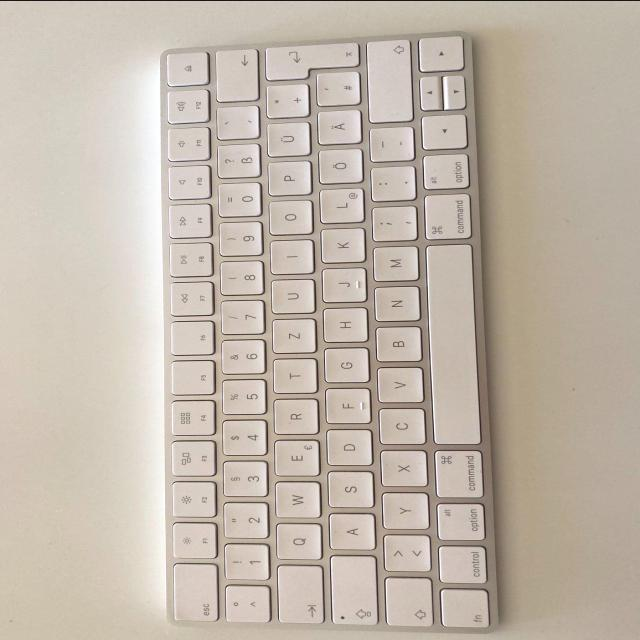0: (215, 182, 261, 218)
1: (222, 543, 269, 582)
2: (221, 502, 268, 540)
3: (220, 460, 267, 498)
4: (219, 419, 265, 456)
5: (219, 378, 266, 416)
6: (219, 339, 265, 377)
7: (218, 300, 264, 336)
8: (217, 260, 263, 297)
9: (216, 221, 262, 257)
a: (326, 513, 376, 551)
accent: (214, 105, 258, 141)
ae: (315, 109, 361, 145)
alt-left: (434, 502, 486, 542)
altgr-right: (419, 153, 469, 191)
b: (373, 326, 420, 364)
c: (376, 407, 426, 446)
caret: (222, 585, 269, 624)
comma: (369, 205, 416, 243)
d: (324, 428, 372, 468)
del: (212, 49, 258, 103)
e: (271, 439, 319, 477)
enter: (260, 43, 358, 82)
f: (322, 387, 370, 425)
g: (322, 347, 369, 385)
h: (320, 307, 367, 345)
hash: (314, 71, 360, 107)
i: (267, 240, 313, 276)
j: (319, 268, 366, 304)
k: (318, 228, 365, 265)
keyboard: (155, 30, 505, 634)
l: (316, 187, 364, 225)
less: (381, 534, 429, 573)
m: (370, 245, 418, 283)
minus: (367, 127, 413, 163)
n: (372, 285, 420, 323)
o: (266, 200, 312, 237)
oe: (316, 149, 363, 185)
p: (265, 161, 311, 197)
plus: (262, 84, 308, 120)
point: (369, 165, 415, 203)
q: (274, 522, 322, 562)
r: (271, 398, 318, 436)
s: (326, 471, 374, 510)
shift-left: (382, 577, 432, 629)
shift-lock: (327, 555, 377, 627)
shift-right: (363, 40, 411, 124)
space: (426, 243, 483, 445)
ss: (215, 143, 259, 179)
strg-left: (435, 545, 488, 586)
t: (269, 358, 316, 394)
tab: (274, 565, 322, 625)
u: (268, 279, 314, 315)
ue: (264, 122, 310, 158)
v: (375, 366, 423, 404)
w: (271, 481, 321, 519)
x: (378, 450, 426, 488)
y: (380, 491, 428, 531)
z: (269, 318, 315, 354)
